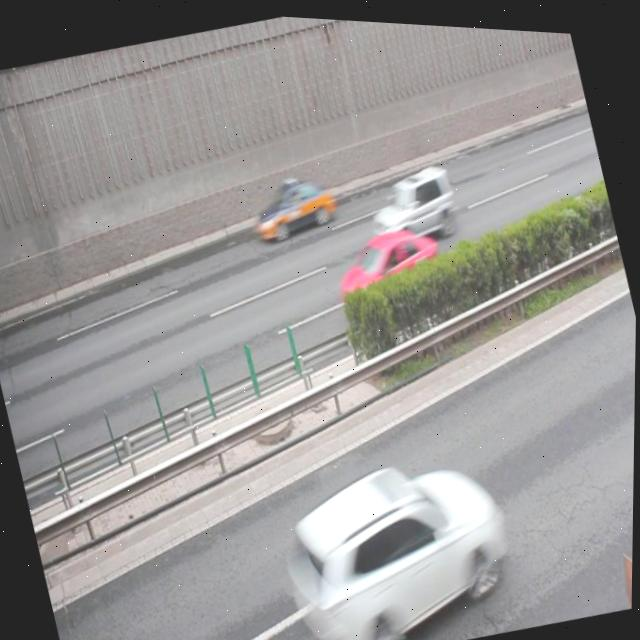car: (270, 429, 525, 640), (327, 212, 451, 323), (362, 152, 462, 248), (244, 164, 340, 247)
